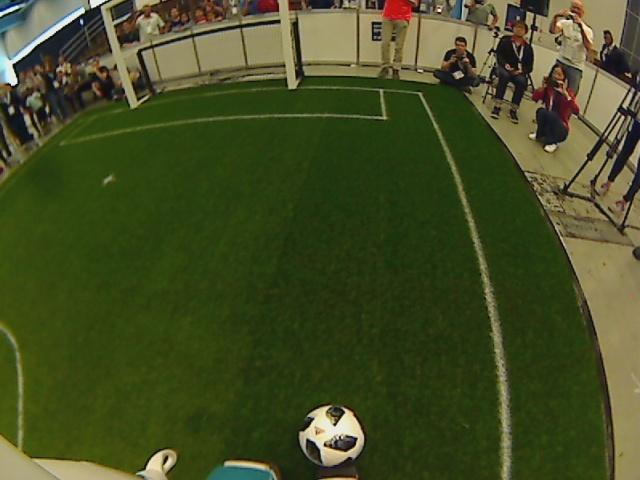ball: (296, 403, 366, 468)
